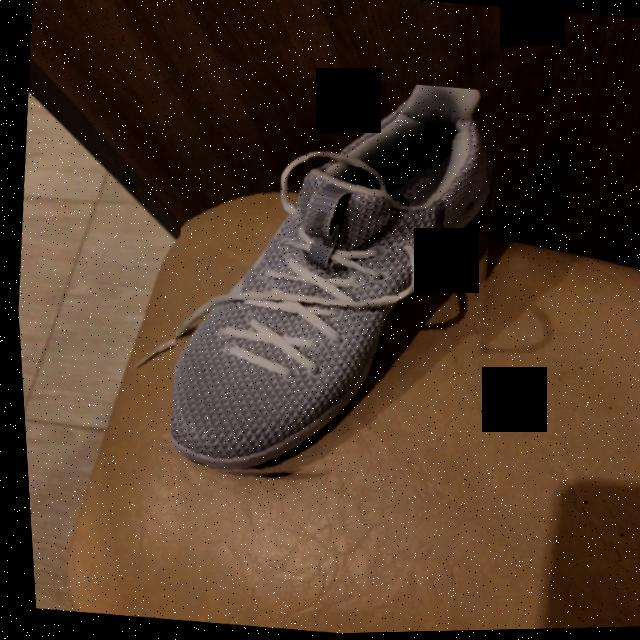shoe: (164, 86, 492, 475)
